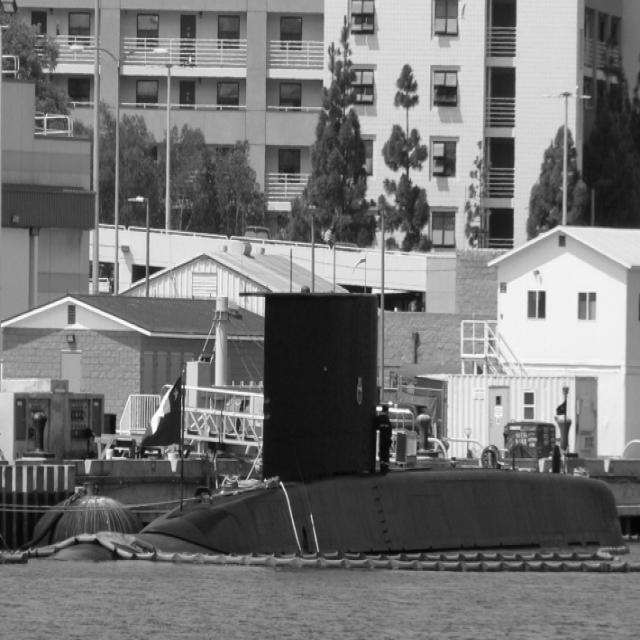submarine: (53, 293, 628, 559)
